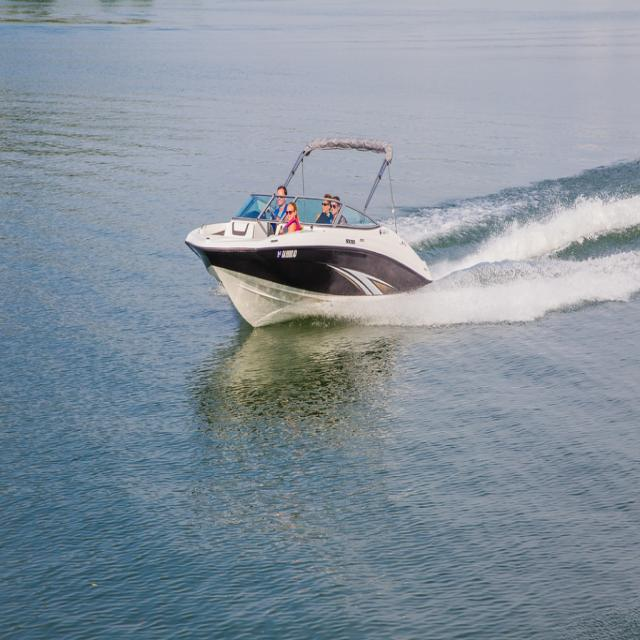Boat: (200, 132, 450, 308)
